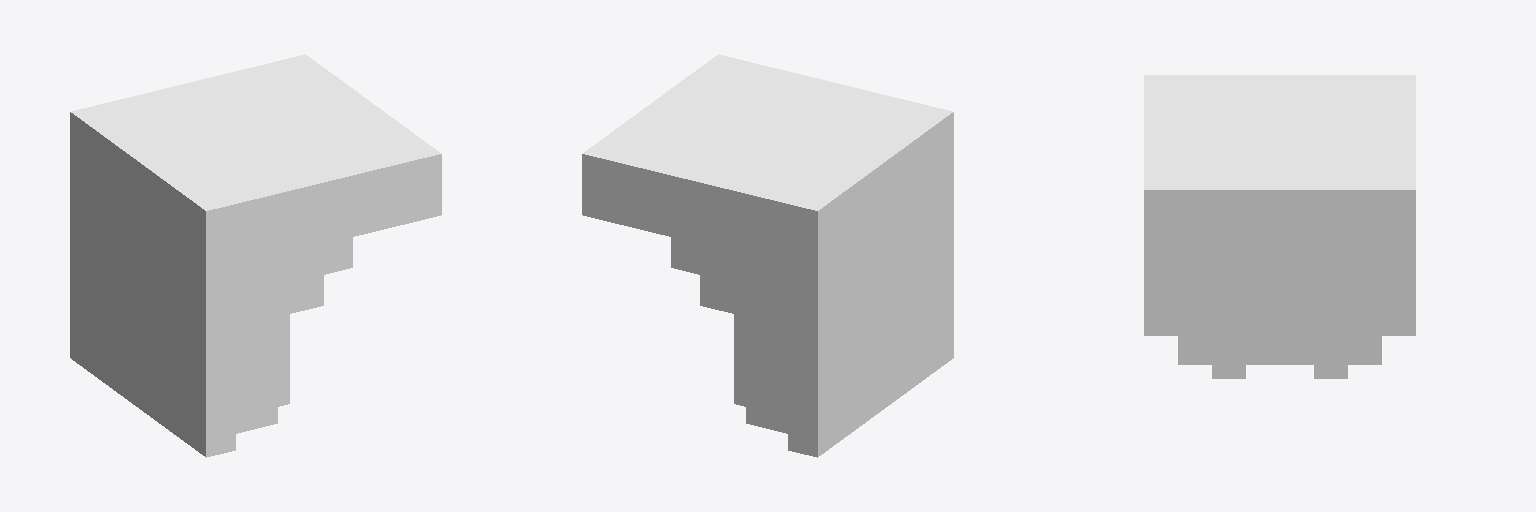
The model's file is pillar_top.obj.
The picture shows the model from 3 angles: view 1: azimuth 30°, elevation 25°; view 2: azimuth 150°, elevation 25°; view 3: azimuth 270°, elevation 25°; orthographic projection.
Size of the model in its own units: 1 by 1 by 1.